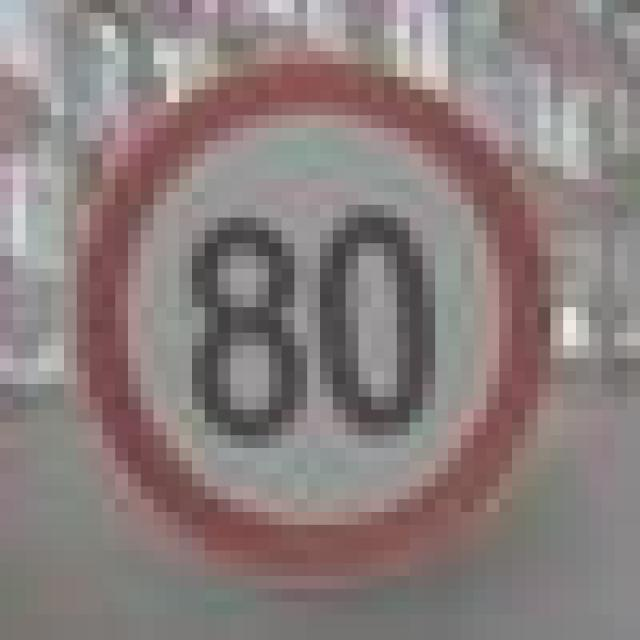SPEED_LIMIT_80: (76, 64, 538, 550)
